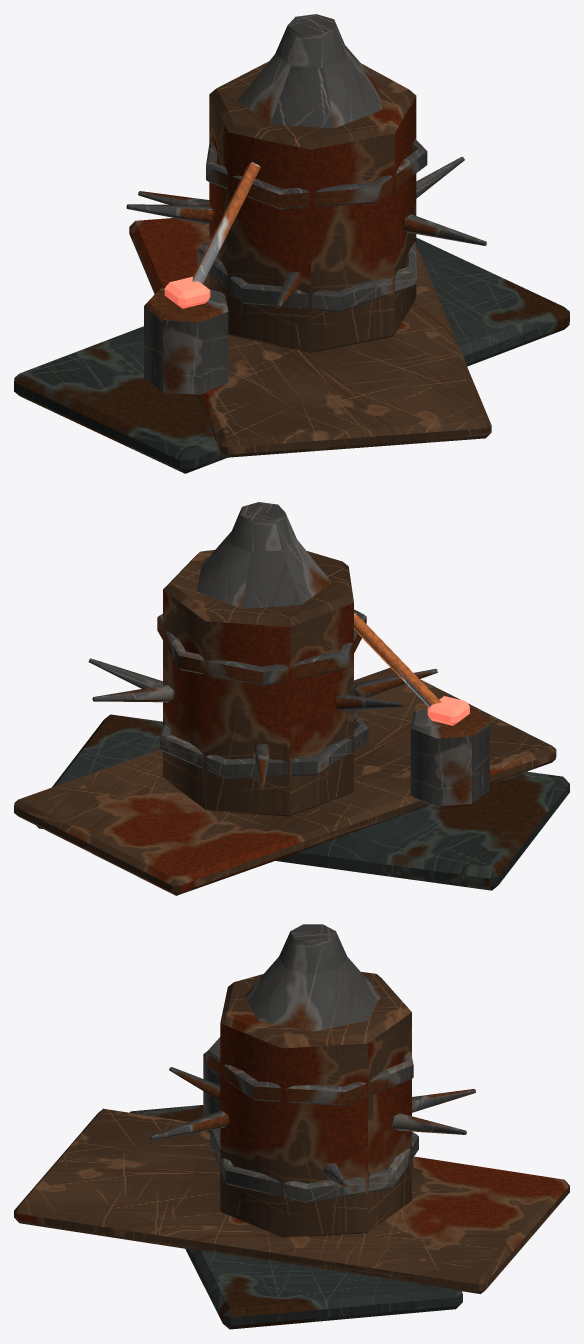
File: R4D_ExplosiveTrap.glb
3 views of the same model, one above another, from view 1: azimuth 30°, elevation 25°; view 2: azimuth 150°, elevation 25°; view 3: azimuth 270°, elevation 25° (orthographic). The views are drawn at different scales.
Visible parts, largest first — view 1: R4D_ExplosiveTrap_Body, R4D_ExplosiveTrap_Lamp; view 2: R4D_ExplosiveTrap_Body, R4D_ExplosiveTrap_Lamp; view 3: R4D_ExplosiveTrap_Body.
Part boxes in pixels (bbox=[...]): R4D_ExplosiveTrap_Body: bbox=[14, 14, 569, 473]; R4D_ExplosiveTrap_Lamp: bbox=[164, 276, 210, 308]; R4D_ExplosiveTrap_Body: bbox=[14, 502, 569, 895]; R4D_ExplosiveTrap_Lamp: bbox=[427, 696, 469, 725]; R4D_ExplosiveTrap_Body: bbox=[14, 924, 569, 1329].
Size of the model in its own units: 0.452 by 0.285 by 0.476.
5 materials, 4 textured.
